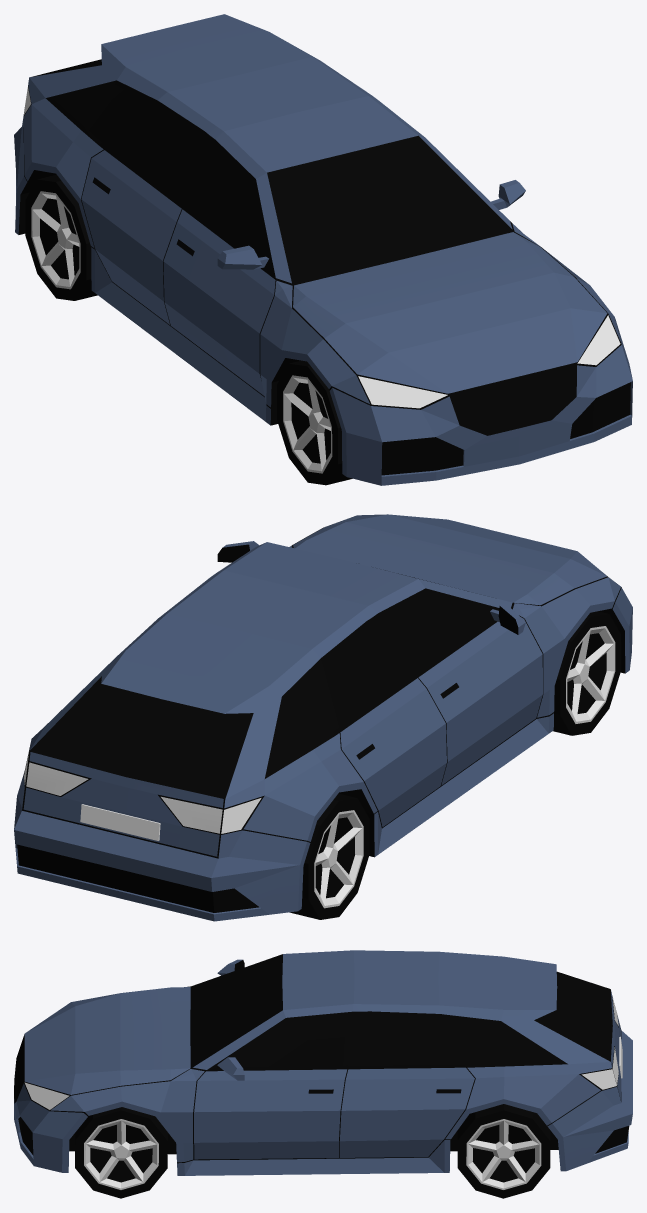
Rendered from Combi.glb.
The picture shows the model from 3 angles, top to bottom: view 1: azimuth 30°, elevation 25°; view 2: azimuth 150°, elevation 25°; view 3: azimuth 270°, elevation 25°; orthographic projection. The views are drawn at different scales.
Visible parts, largest first — view 1: Combi; view 2: Combi; view 3: Combi.
Part boxes in pixels (x1,y1,x2,y2): Combi: (14, 14, 632, 485); Combi: (14, 514, 632, 921); Combi: (14, 950, 632, 1198).
Size of the model in its own units: 3.33 by 2.36 by 7.8.
